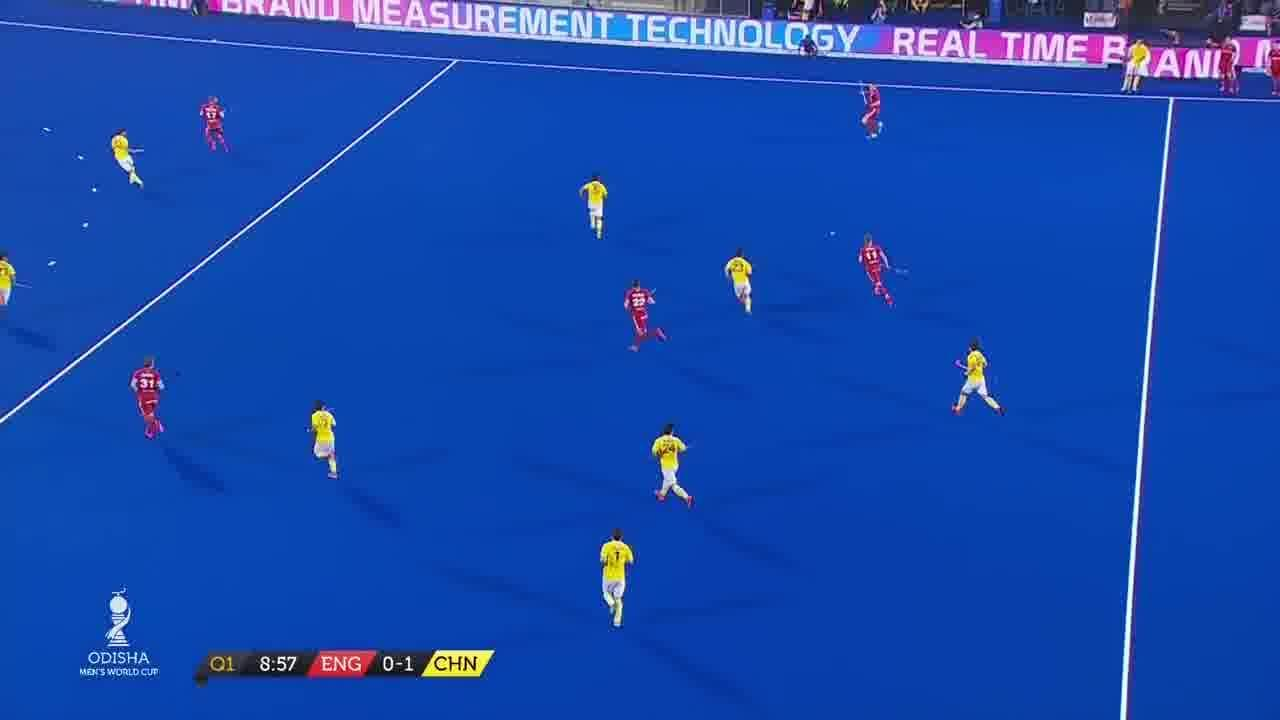ball: (826, 222, 840, 245)
